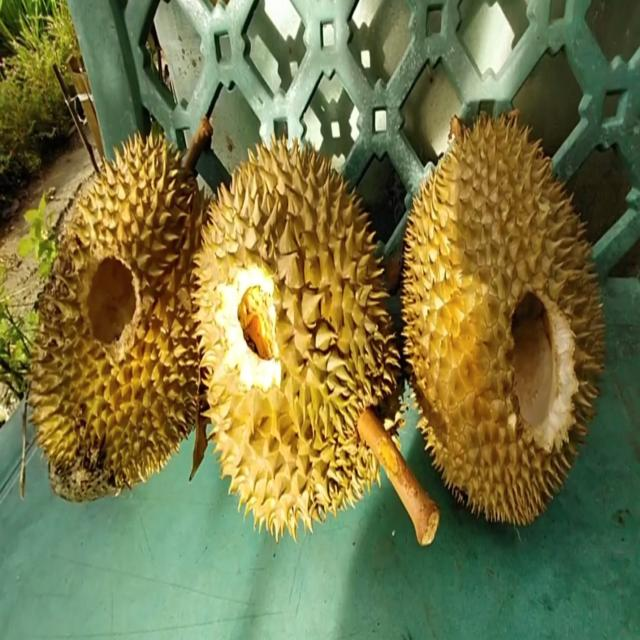defective: (398, 105, 606, 532), (193, 131, 403, 546), (22, 129, 225, 498)
